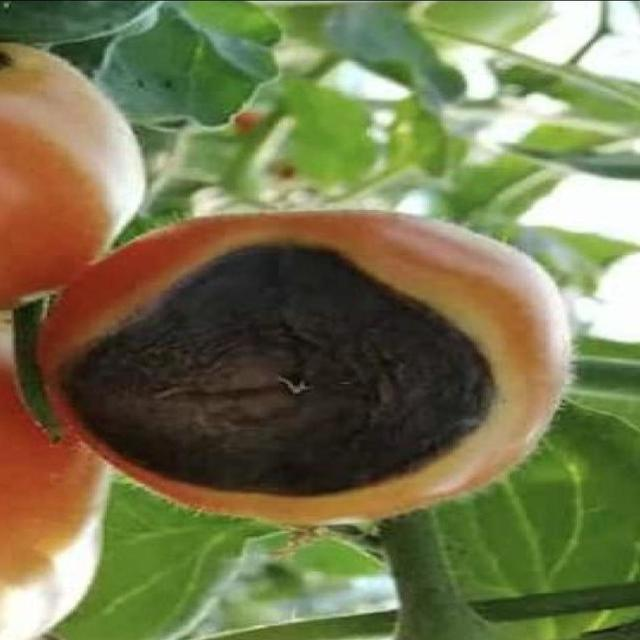Blossom End Rot Fruit: (38, 158, 337, 331)
